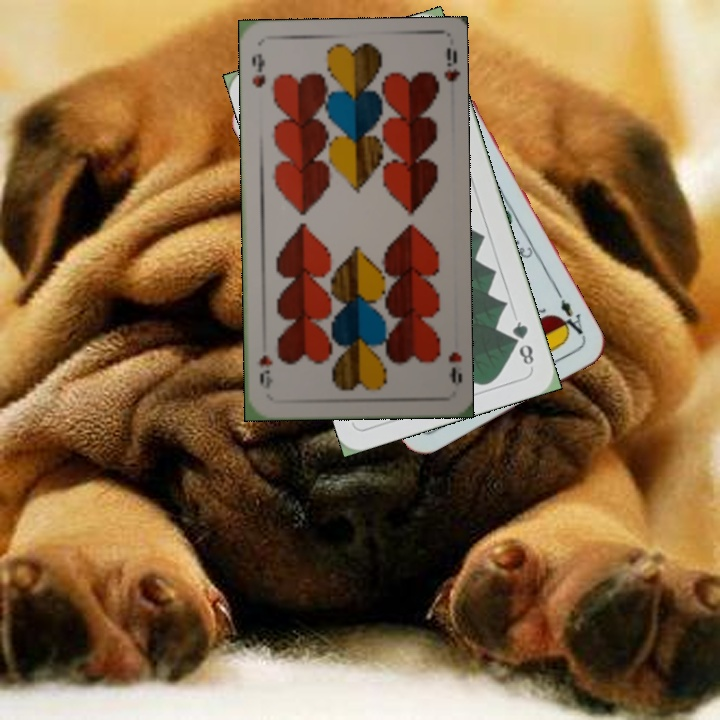EA: (553, 287, 588, 342)
G8: (508, 317, 537, 368)
H9: (247, 49, 268, 90), (445, 348, 464, 386)
